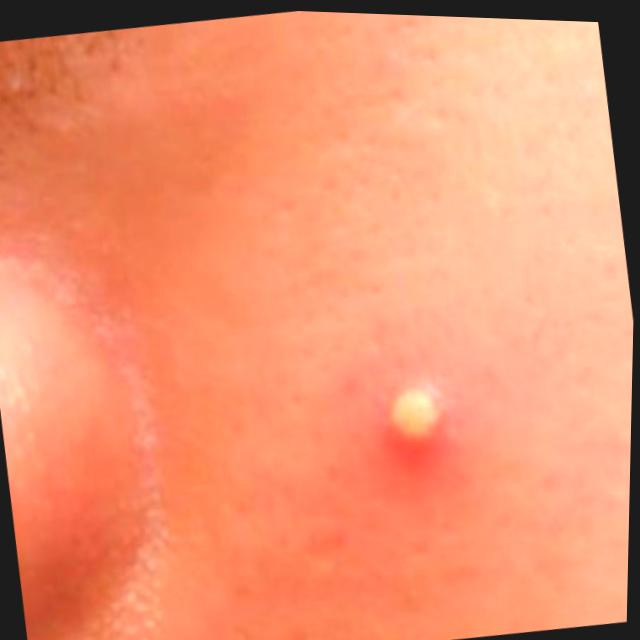pustule: (353, 332, 499, 483)
